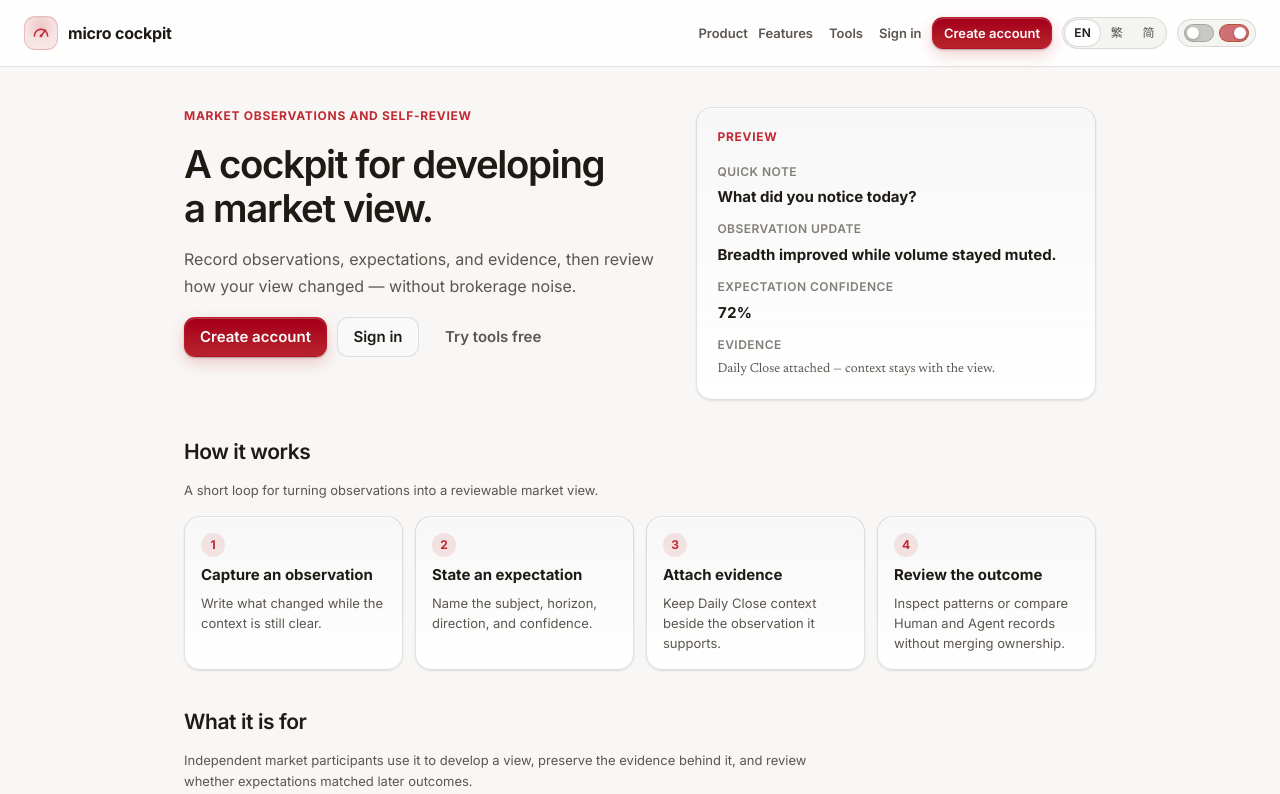
Scenario: public experience › switches public copy to Traditional Chinese
Expected: the heading "A cockpit for developing a market view." is shown, left=184, top=142, right=672, bottom=230
Click the button "繁".
click(1117, 33)  # box left=1102, top=20, right=1132, bottom=46
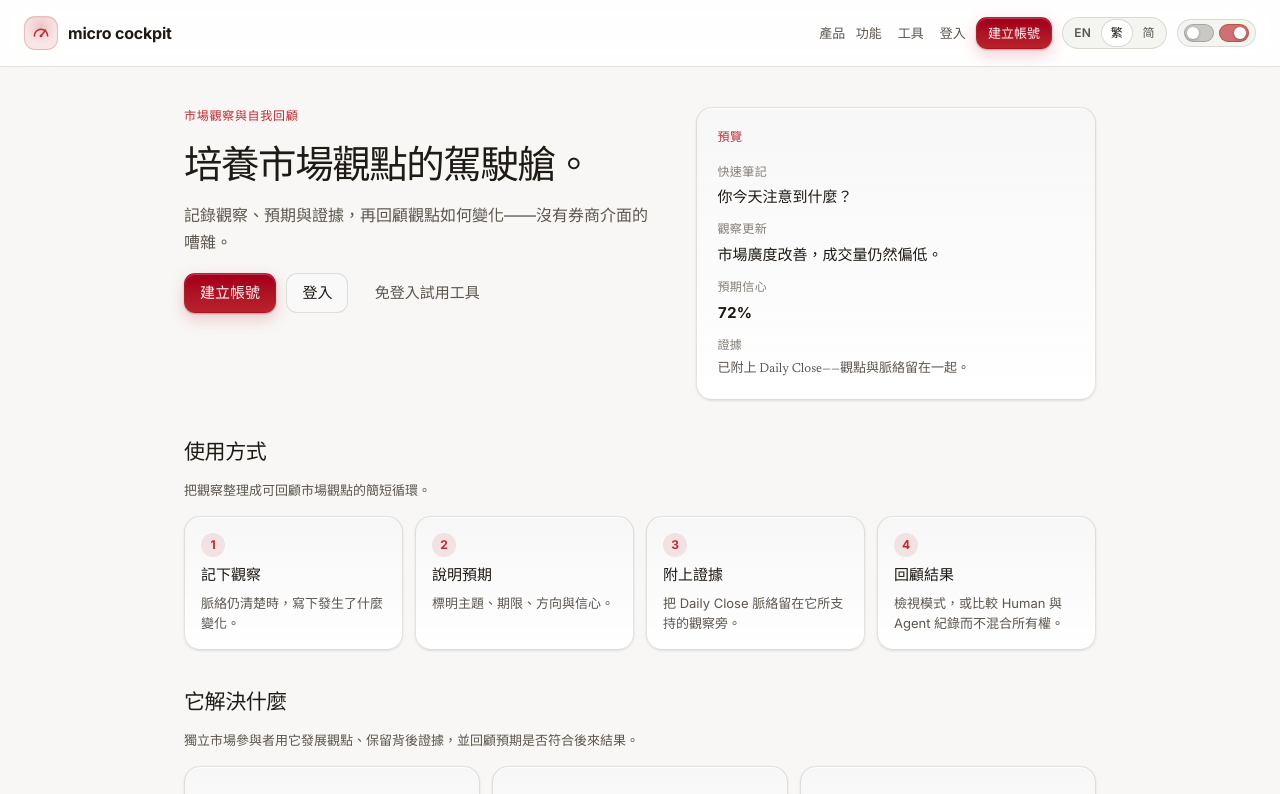
Expected: the heading "培養市場觀點的駕駛艙。" is shown, left=184, top=141, right=592, bottom=187
Expected: the heading "使用方式" is shown, left=184, top=439, right=266, bottom=464
